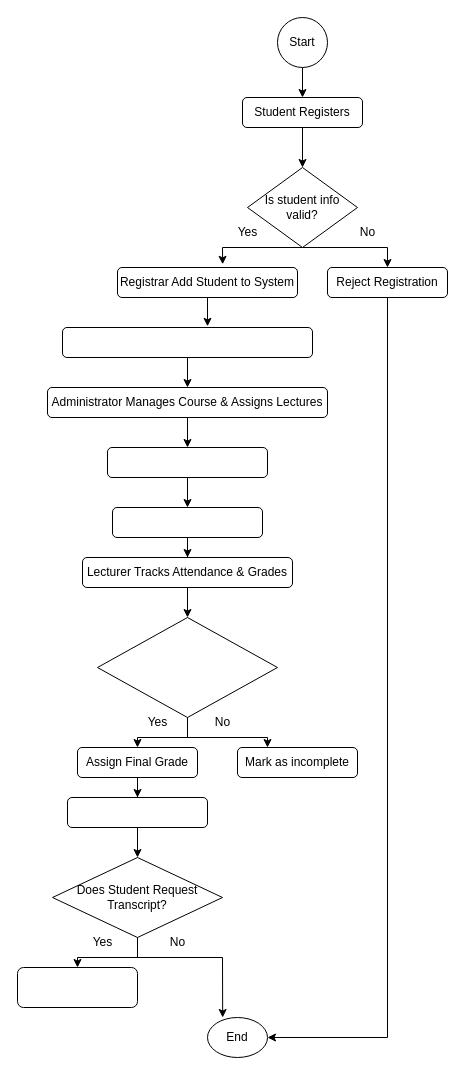
Image size: 465x1075. Some labels were removed from this diagram. Here are the shapes that lost their labels. From the top down, the centre of each, then its label:
the point at 187,342: Course Coordinator Creates/Modifies Courses
the point at 187,462: Lecturer Conducts Class
the point at 187,522: Student Enrolls in Class
the point at 187,667: Has Student Completed All Assessments?
the point at 137,812: Student Views Grades
the point at 77,987: Generate Transcript
